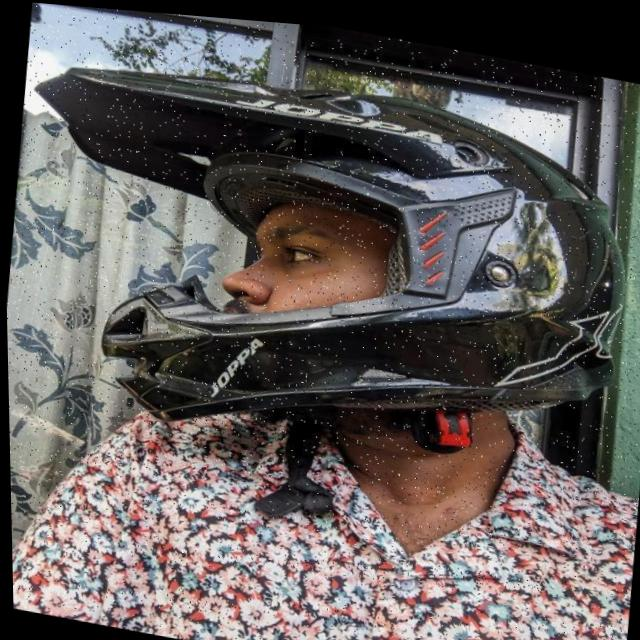helmet: (0, 20, 640, 574)
